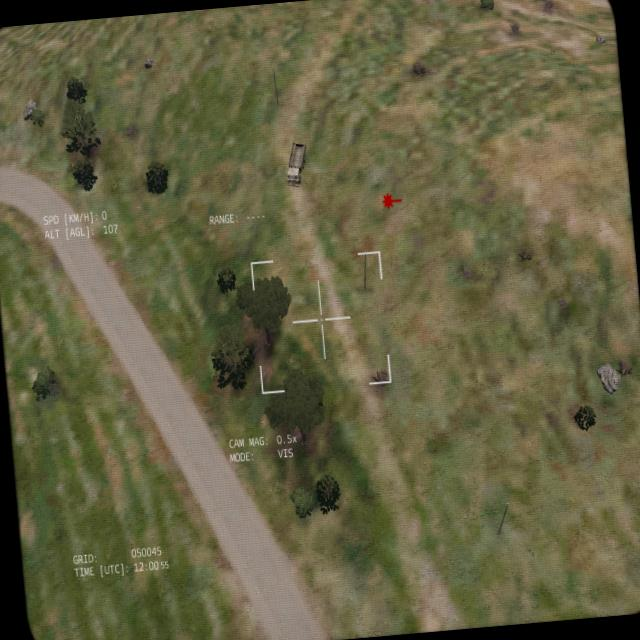truck: (280, 138, 310, 188)
